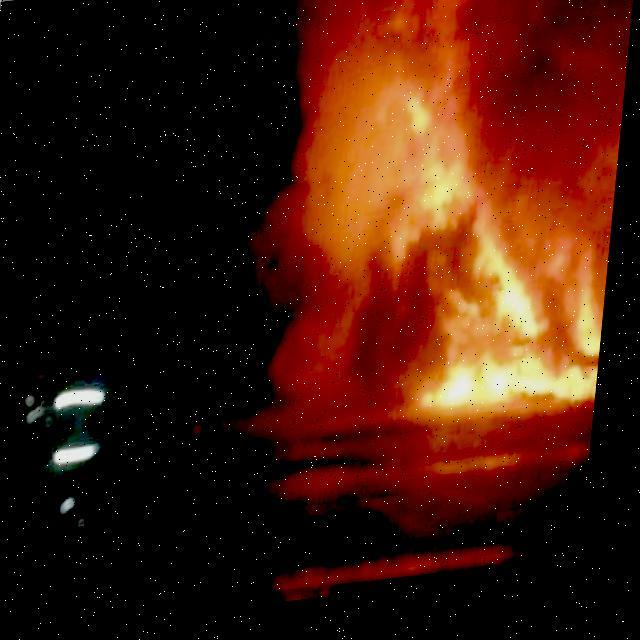Fire: (372, 92, 628, 437)
